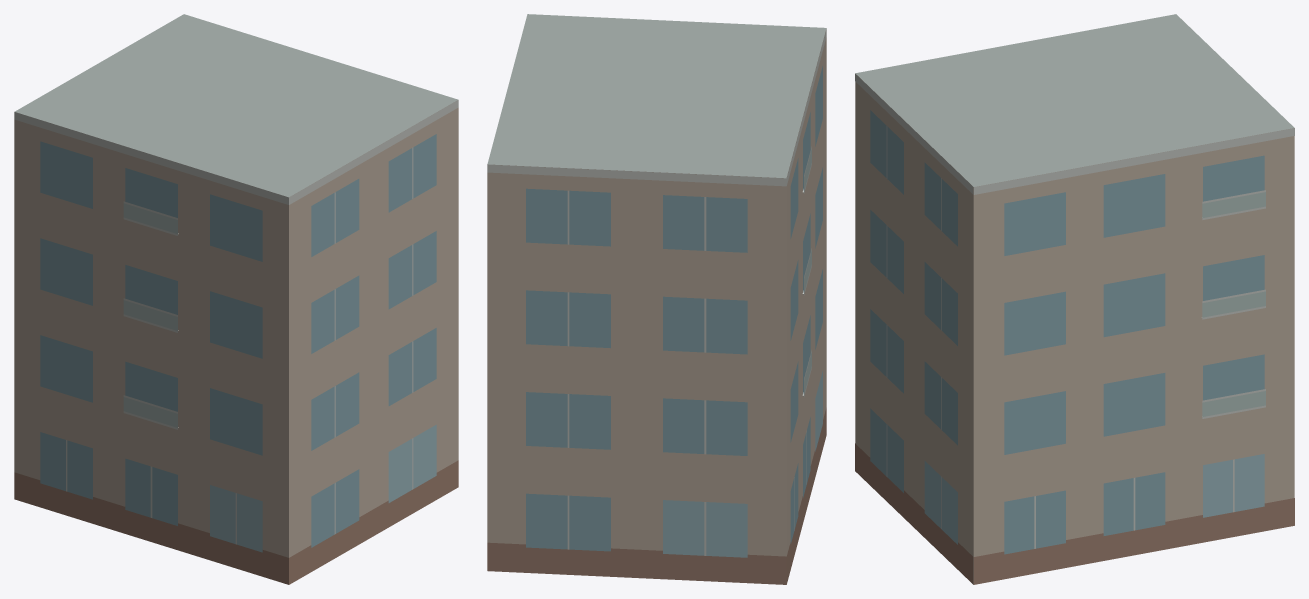
File: survey-upis-32999899.glb
3 renders of one model, left to right at view 1: azimuth 30°, elevation 25°; view 2: azimuth 150°, elevation 25°; view 3: azimuth 270°, elevation 25°, orthographic. The views are drawn at different scales.
Parts seen in each view (by area): view 1: survey-upis-32999899.tmp; view 2: survey-upis-32999899.tmp; view 3: survey-upis-32999899.tmp.
Part boxes in pixels (x1,y1,x2,y2): survey-upis-32999899.tmp: (14, 14, 458, 584); survey-upis-32999899.tmp: (487, 14, 826, 584); survey-upis-32999899.tmp: (855, 14, 1294, 584).
Size of the model in its own units: 11.39 by 12.2 by 12.23.
